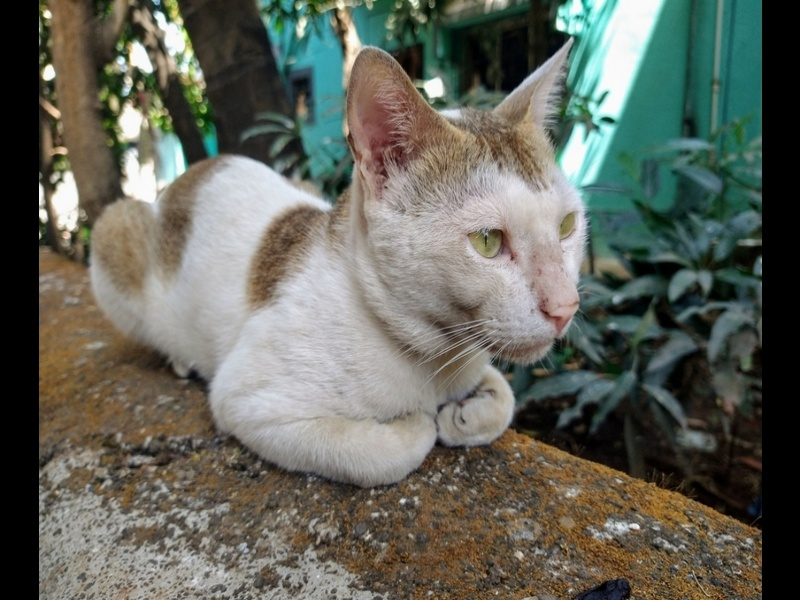cat: (91, 48, 589, 488)
